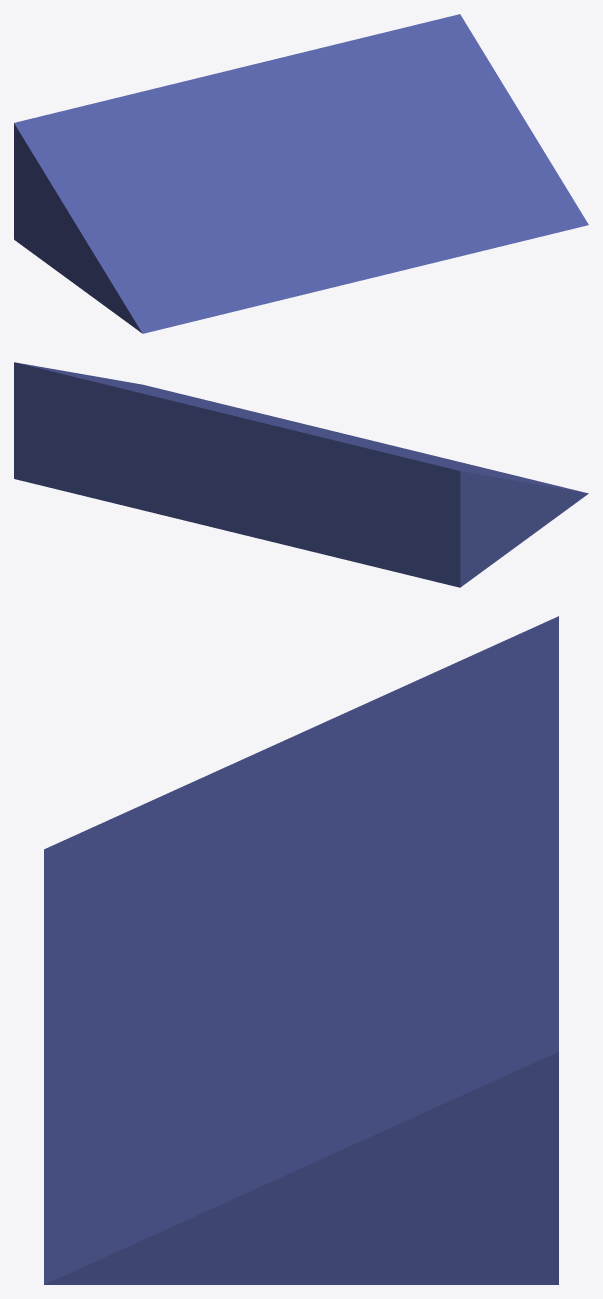
File: CoL_Stair_Middle_2x4_02.fbx
3 renders of one model, top to bottom at view 1: azimuth 30°, elevation 25°; view 2: azimuth 150°, elevation 25°; view 3: azimuth 270°, elevation 25°, orthographic. The views are drawn at different scales.
Visible parts, largest first — view 1: CoL_Stair_Middle_2x4_02; view 2: CoL_Stair_Middle_2x4_02; view 3: CoL_Stair_Middle_2x4_02.
Part boxes in pixels (x1,y1,x2,y2): CoL_Stair_Middle_2x4_02: (14, 14, 588, 333); CoL_Stair_Middle_2x4_02: (14, 362, 588, 587); CoL_Stair_Middle_2x4_02: (44, 616, 558, 1284).
Size of the model in its own units: 400 by 100 by 200.
